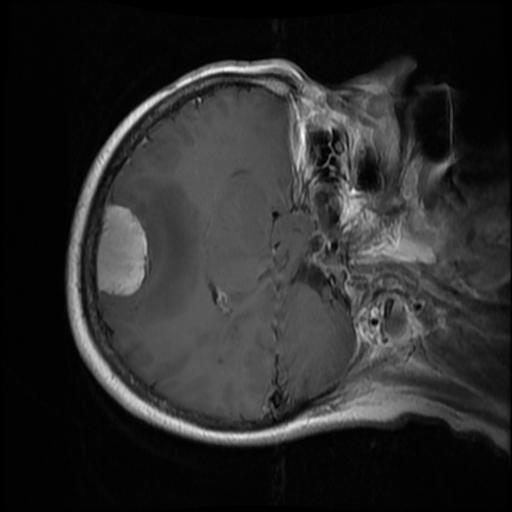meningioma: (95, 201, 149, 297)
